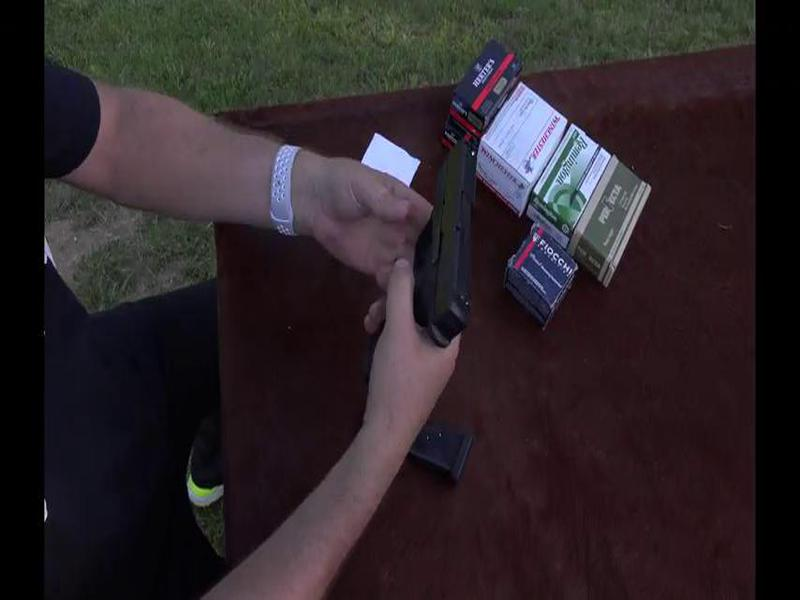Pistola: (370, 113, 493, 404)
